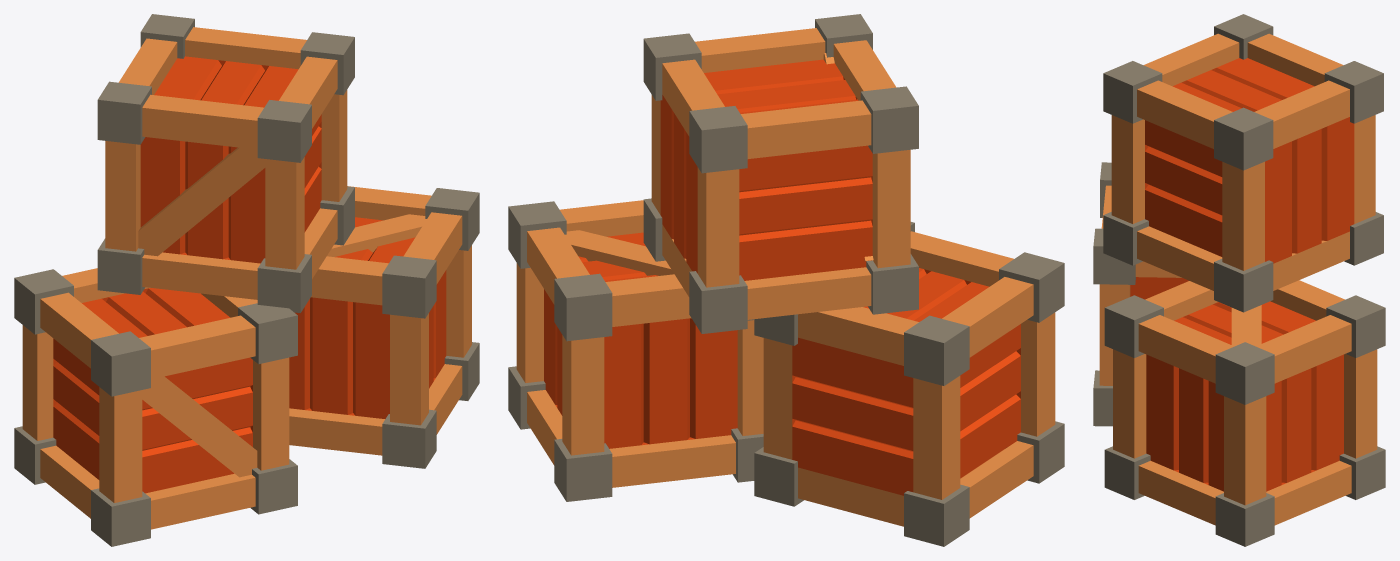
The model's file is crates.glb.
3 renders of one model, left to right at view 1: azimuth 30°, elevation 25°; view 2: azimuth 150°, elevation 25°; view 3: azimuth 270°, elevation 25°, orthographic. The views are drawn at different scales.
Visible parts, largest first — view 1: crate.003, crate.002, crate.001; view 2: crate.003, crate.002, crate.001; view 3: crate.003, crate.001, crate.002.
Boxes of the visible parts, bbox=[...] form: crate.003: bbox=[97, 14, 354, 312]; crate.002: bbox=[14, 268, 297, 546]; crate.001: bbox=[289, 186, 479, 468]; crate.003: bbox=[643, 14, 918, 333]; crate.002: bbox=[754, 222, 1064, 546]; crate.001: bbox=[508, 200, 763, 501]; crate.003: bbox=[1103, 14, 1383, 312]; crate.001: bbox=[1104, 280, 1385, 546]; crate.002: bbox=[1093, 162, 1188, 426].
Size of the model in its own units: 2.59 by 2.11 by 1.56.
